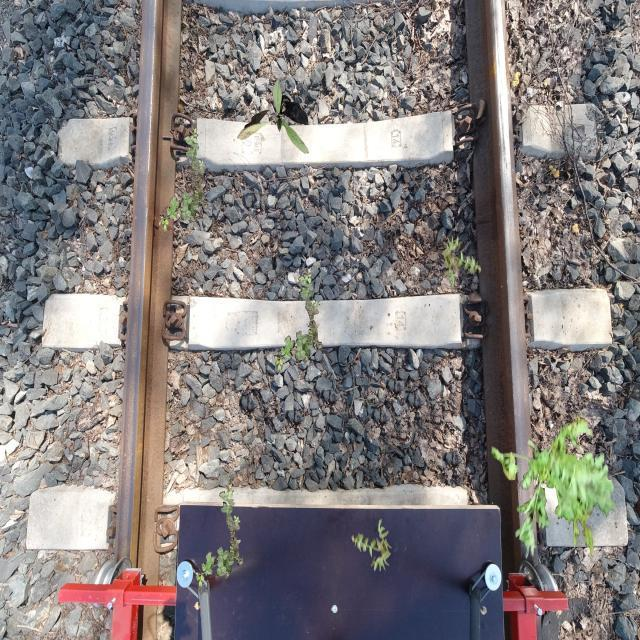Plant: (492, 412, 617, 559), (237, 79, 308, 154), (195, 483, 244, 586), (160, 127, 208, 230), (274, 267, 322, 370), (351, 518, 392, 572), (441, 236, 482, 290)
